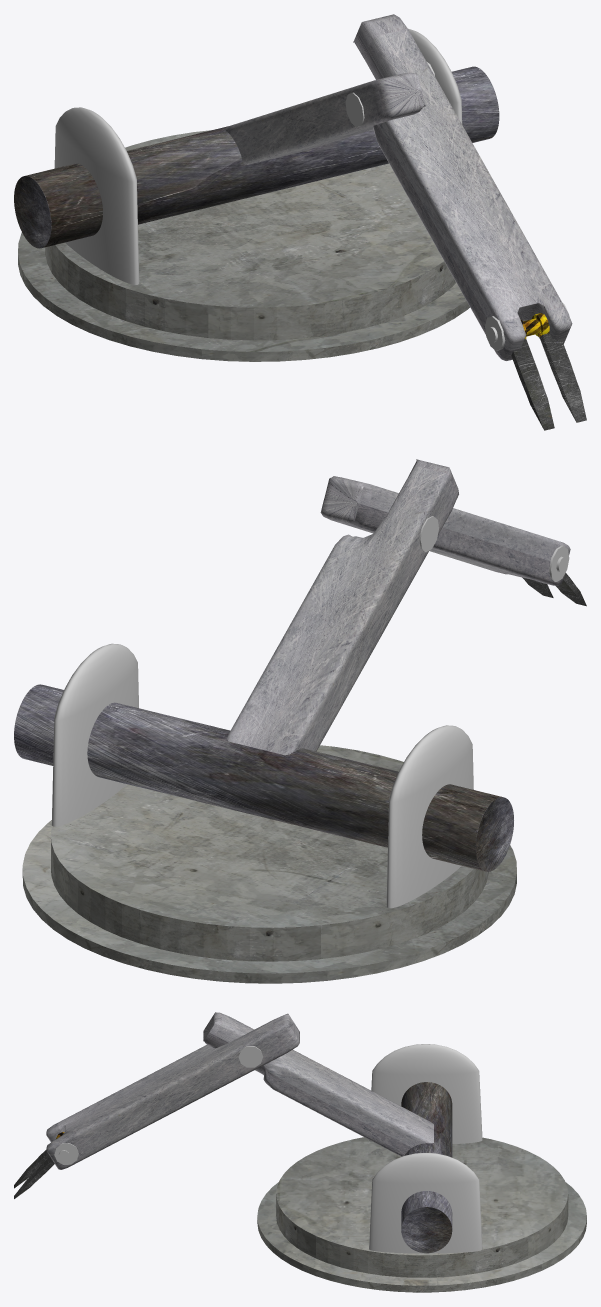
The model's file is Industrail_Robot_Arm.FBX.
3 views of the same model, one above another, from view 1: azimuth 30°, elevation 25°; view 2: azimuth 150°, elevation 25°; view 3: azimuth 270°, elevation 25° (orthographic). The views are drawn at different scales.
Visible parts, largest first — view 1: CranePlatform, CraneArm2, CraneSupport, CraneHolder_Right, CraneArm1, CraneClaws, CraneHolder_Left; view 2: CranePlatform, CraneSupport, CraneArm1, CraneHolder_Right, CraneHolder_Left, CraneArm2, CraneClaws; view 3: CranePlatform, CraneArm2, CraneArm1, CraneHolder_Left, CraneHolder_Right, CraneSupport, CraneClaws, ArmBolt2.
Part boxes in pixels (box(x1,y1,x2,y2)): CranePlatform: box(18, 130, 469, 361); CraneArm2: box(353, 14, 572, 360); CraneSupport: box(14, 66, 499, 248); CraneHolder_Right: box(54, 107, 139, 284); CraneArm1: box(224, 72, 425, 164); CraneClaws: box(511, 333, 586, 430); CraneHolder_Left: box(408, 28, 462, 124); CranePlatform: box(22, 745, 516, 983); CraneSupport: box(14, 684, 513, 871); CraneArm1: box(227, 459, 458, 755); CraneHolder_Right: box(386, 725, 473, 908); CraneHolder_Left: box(51, 643, 138, 826); CraneArm2: box(320, 476, 570, 585); CraneClaws: box(522, 573, 586, 606); CranePlatform: box(257, 1137, 586, 1292); CraneArm2: box(46, 1013, 299, 1169); CraneArm1: box(203, 1012, 433, 1156); CraneHolder_Left: box(369, 1153, 482, 1253); CraneHolder_Right: box(369, 1044, 482, 1143); CraneSupport: box(401, 1082, 452, 1253); CraneClaws: box(14, 1149, 54, 1198); ArmBolt2: box(238, 1046, 262, 1067).
Bounding box in the file's own units: 362 × 584 × 238.
